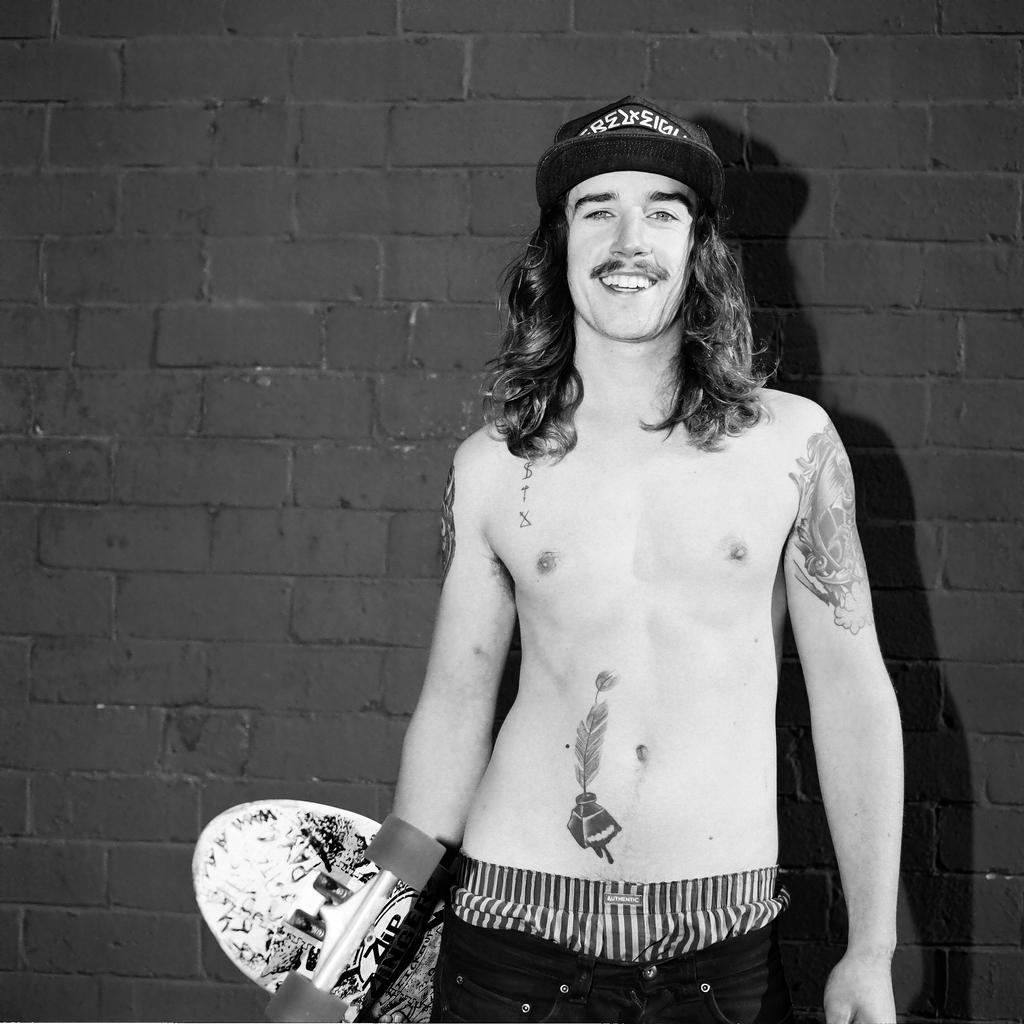Hat: (539, 94, 728, 233)
